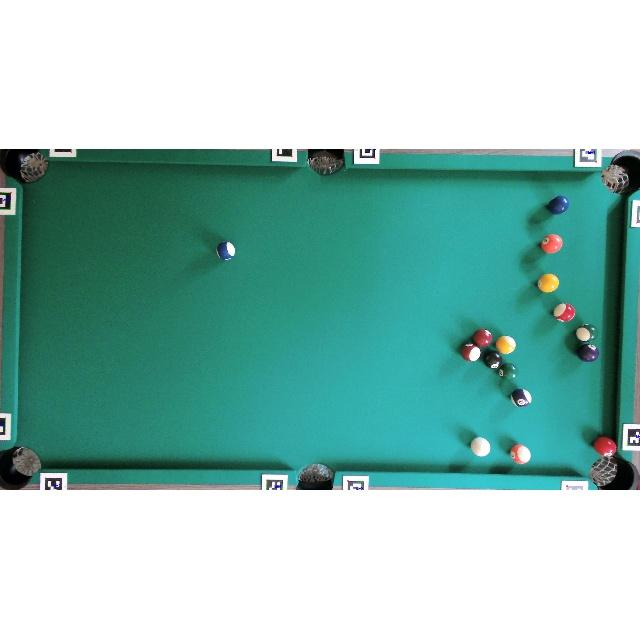cue ball: (470, 437, 491, 457)
other: (593, 436, 617, 457), (576, 342, 600, 362), (546, 195, 570, 214), (538, 273, 560, 293), (510, 444, 531, 464), (541, 234, 563, 253), (554, 303, 575, 322), (511, 389, 532, 407), (576, 324, 597, 342), (483, 350, 502, 369), (461, 344, 481, 362), (496, 336, 516, 354), (473, 329, 493, 347), (217, 242, 235, 260), (498, 363, 518, 379)
